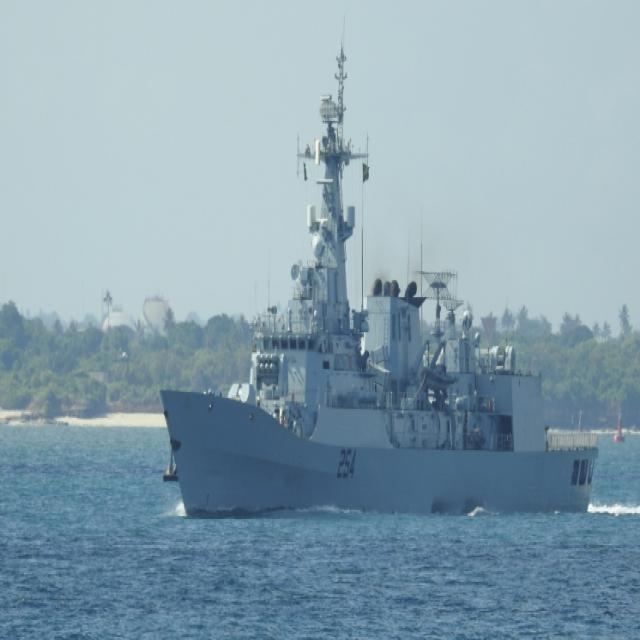Fragata: (159, 12, 604, 532)
